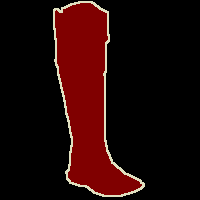shoe: (54, 2, 144, 196)
